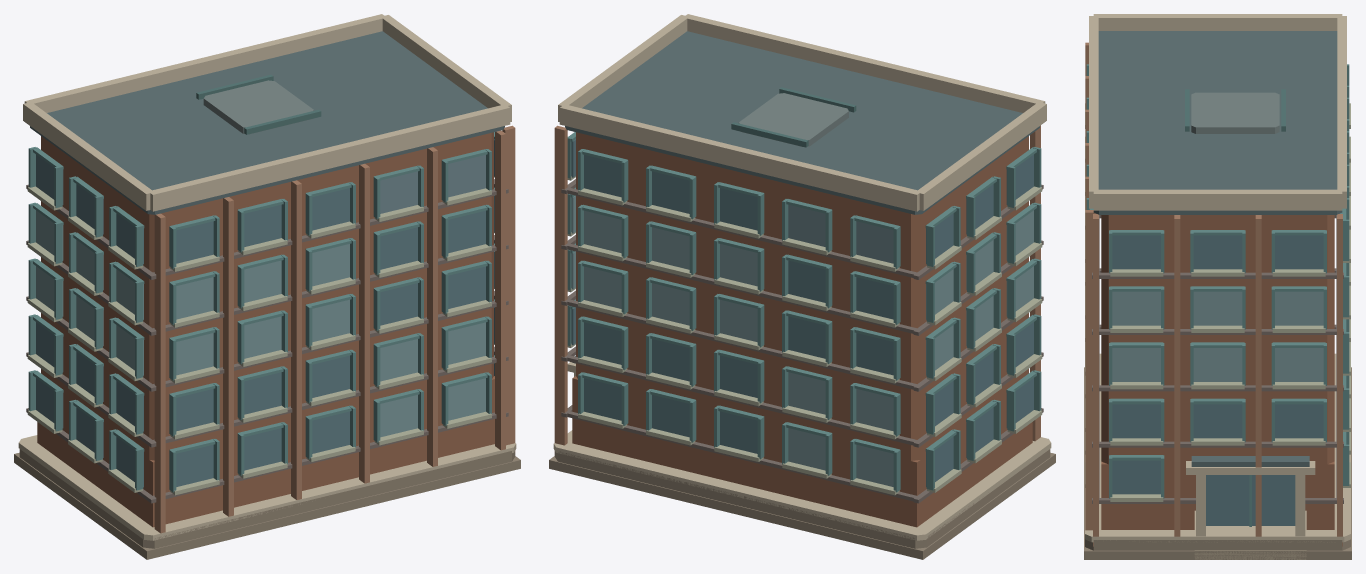
The picture shows the model from 3 angles, left to right: view 1: azimuth 30°, elevation 25°; view 2: azimuth 150°, elevation 25°; view 3: azimuth 270°, elevation 25°; orthographic projection.
Parts seen in each view (by area): view 1: form, relief, glaze, glowing; view 2: form, relief, glaze, glowing; view 3: form, glaze, relief, glowing.
Boxes of the visible parts, x1,y1,x2,y2 form: form: [14, 14, 520, 559]; relief: [27, 132, 494, 495]; glaze: [36, 139, 494, 487]; glowing: [116, 244, 417, 437]; form: [549, 14, 1055, 559]; relief: [567, 132, 1042, 495]; glaze: [571, 139, 1033, 487]; glowing: [571, 195, 1033, 470]; form: [1084, 14, 1351, 559]; glaze: [1112, 235, 1323, 525]; relief: [1085, 64, 1350, 526]; glowing: [1275, 291, 1323, 325].
Bounding box in the file's own units: 13 × 12 × 8.
